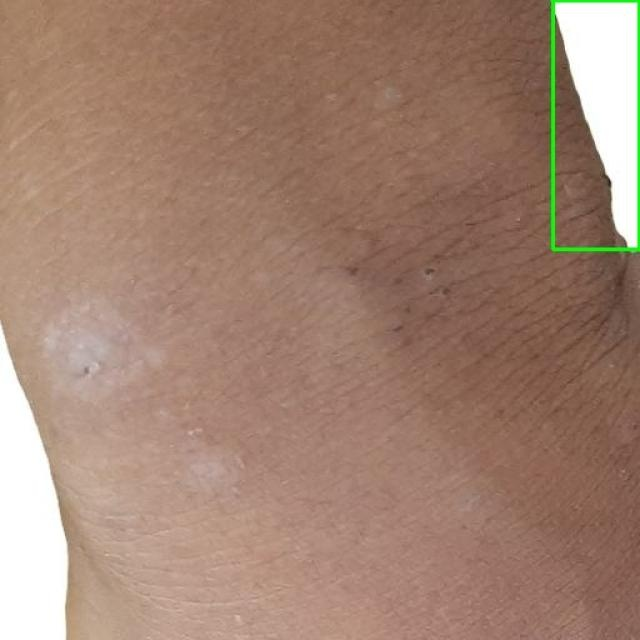Scabies: (552, 0, 639, 249)
